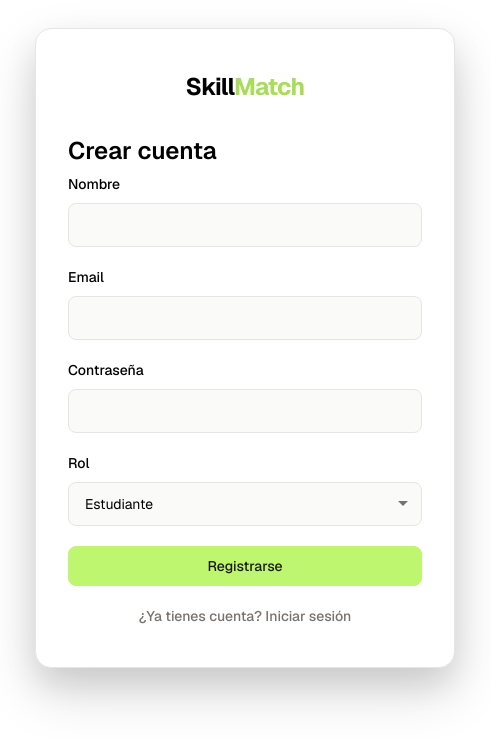
it: errores de API › muestra error inline en campo email si la API responde 409
This screenshot has width=491, height=738.
Step 1. Type "Carlos" into the field labelled "Nombre" → (245, 225), box [68, 203, 422, 247]
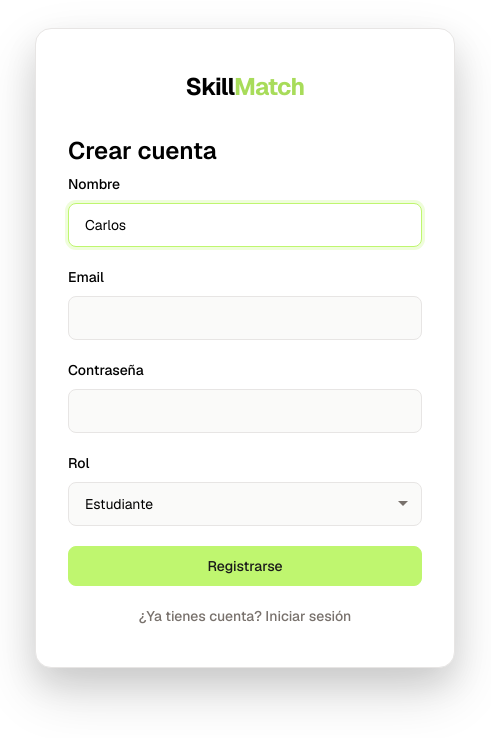
Step 2. Type "dup@test.com" into the field labelled "Email" → (245, 318), box [68, 296, 422, 340]
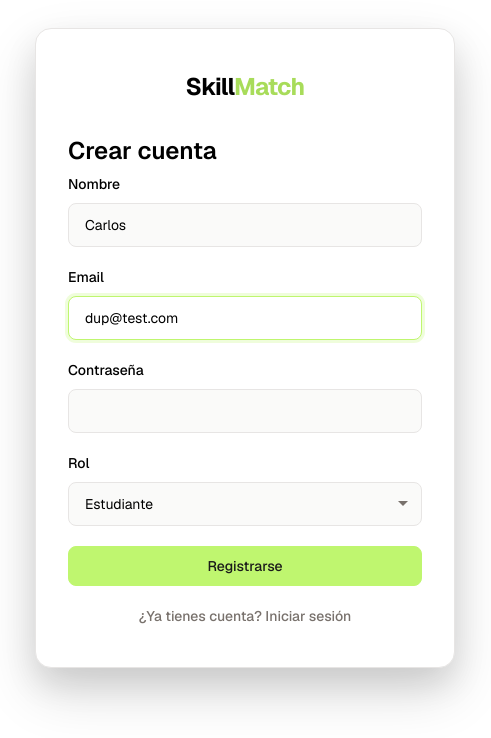
Step 3. Type "123456" into the password field labelled "Contraseña" → (245, 411), box [68, 389, 422, 433]
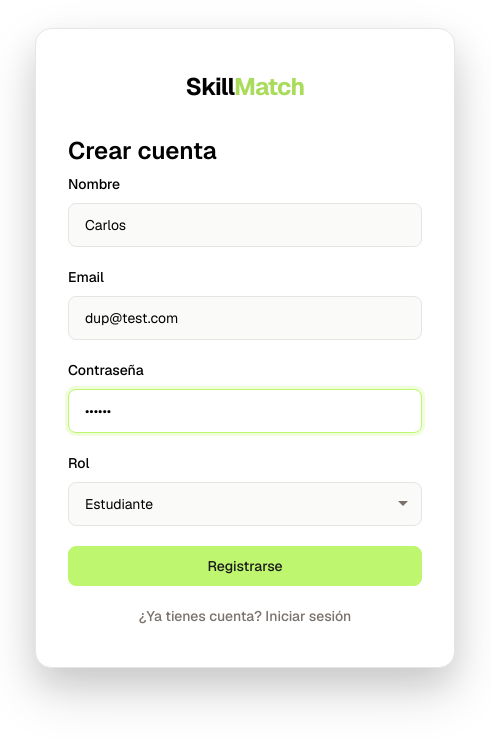
Step 4. Select "Estudiante" in the dropdown labelled "Rol" → (245, 504), box [68, 482, 422, 526]
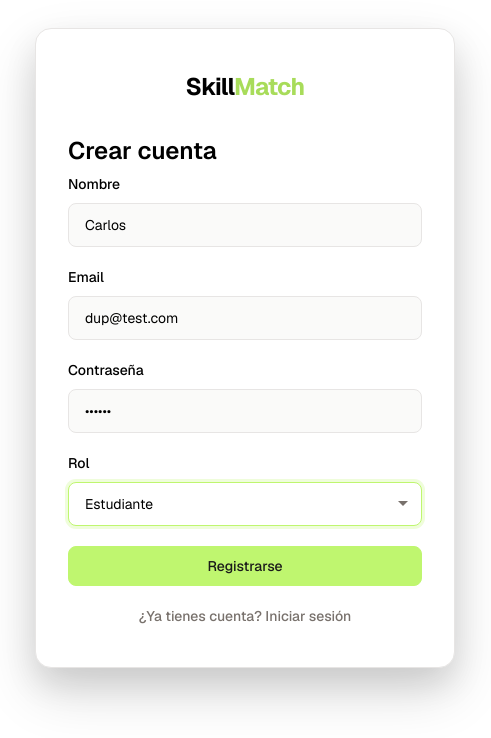
Step 5. Click the button "Registrarse" → (245, 566), box [68, 546, 422, 586]
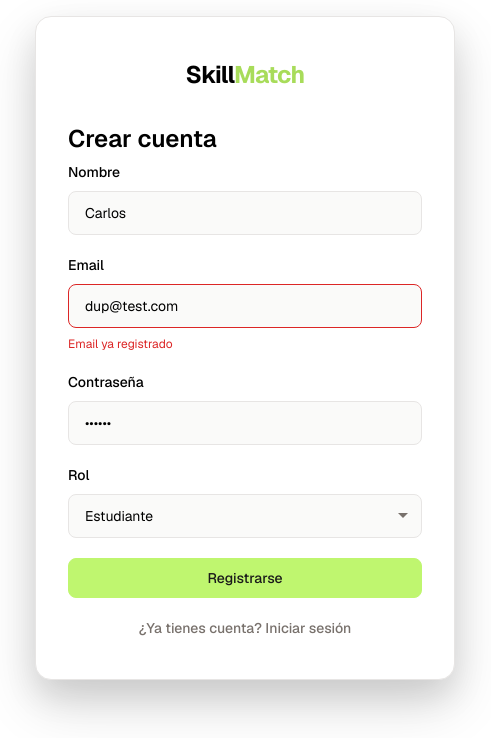
Now the text "Email ya registrado" is shown, box [68, 336, 172, 352]
